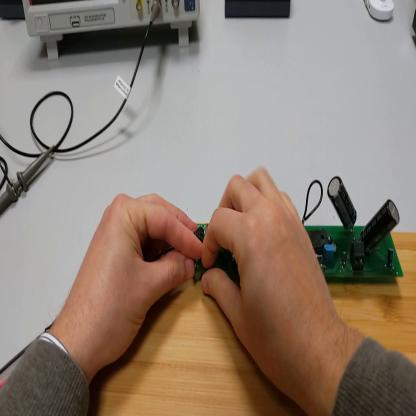hand: (198, 168, 336, 396), (67, 192, 204, 368)
high voltage board: (154, 169, 410, 284)
oscilloscope: (22, 2, 202, 60)
oscilloscope probe tip: (1, 145, 54, 215)
socket: (1, 2, 26, 20)
working area: (87, 232, 416, 416)
